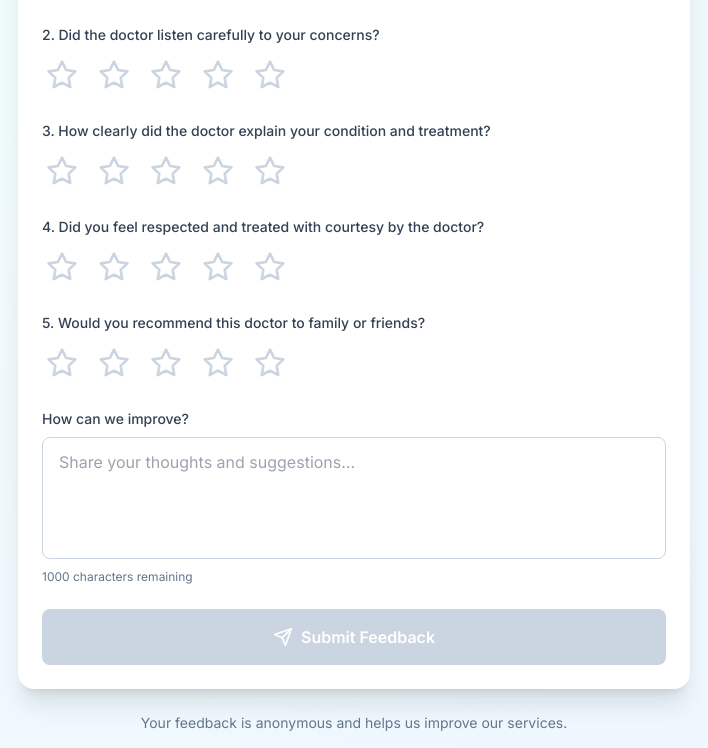
Test case: PublicSurvey Component › updates character counter as user types
(page scrolled)
Type "Great service!" into the text box labelled "How can we improve?". click: [354, 498]
box: [42,437,666,559]
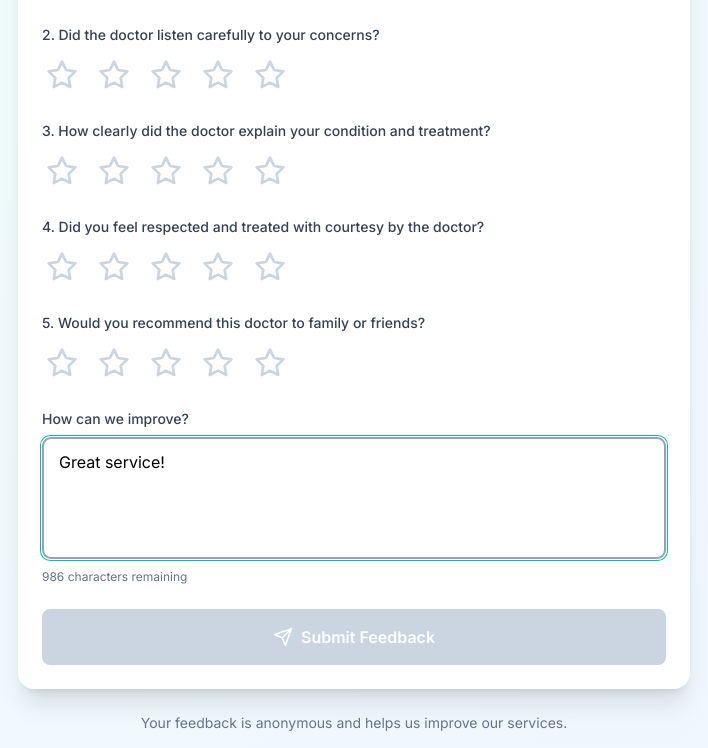
expect the text "986 characters remaining" is shown: met, box [42,569,187,584]
